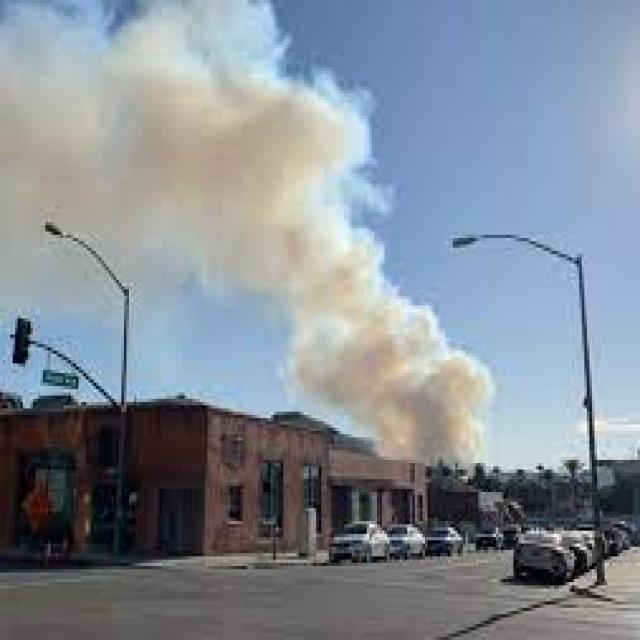Smoke: (0, 0, 496, 467)
